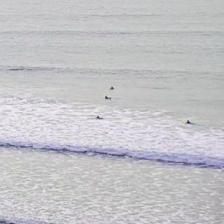surfer: (186, 120, 192, 124), (105, 96, 111, 99), (96, 116, 102, 119), (110, 86, 114, 90)
